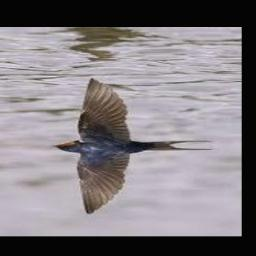Swallow: (53, 78, 215, 214)
